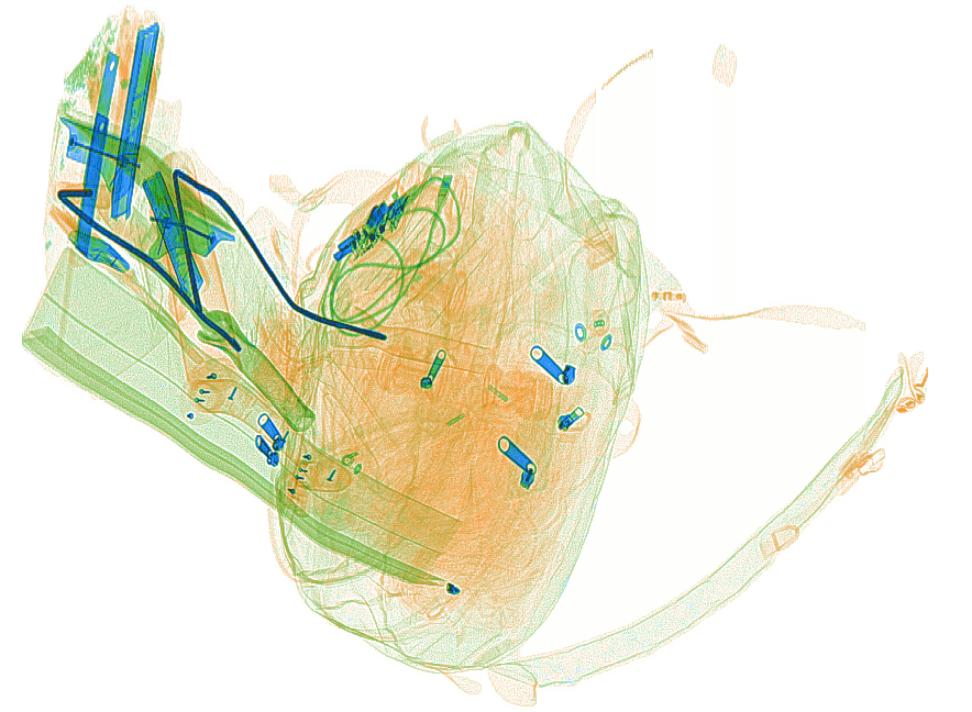knife: (139, 169, 210, 325), (109, 19, 162, 221), (81, 50, 120, 203), (74, 110, 110, 258)
